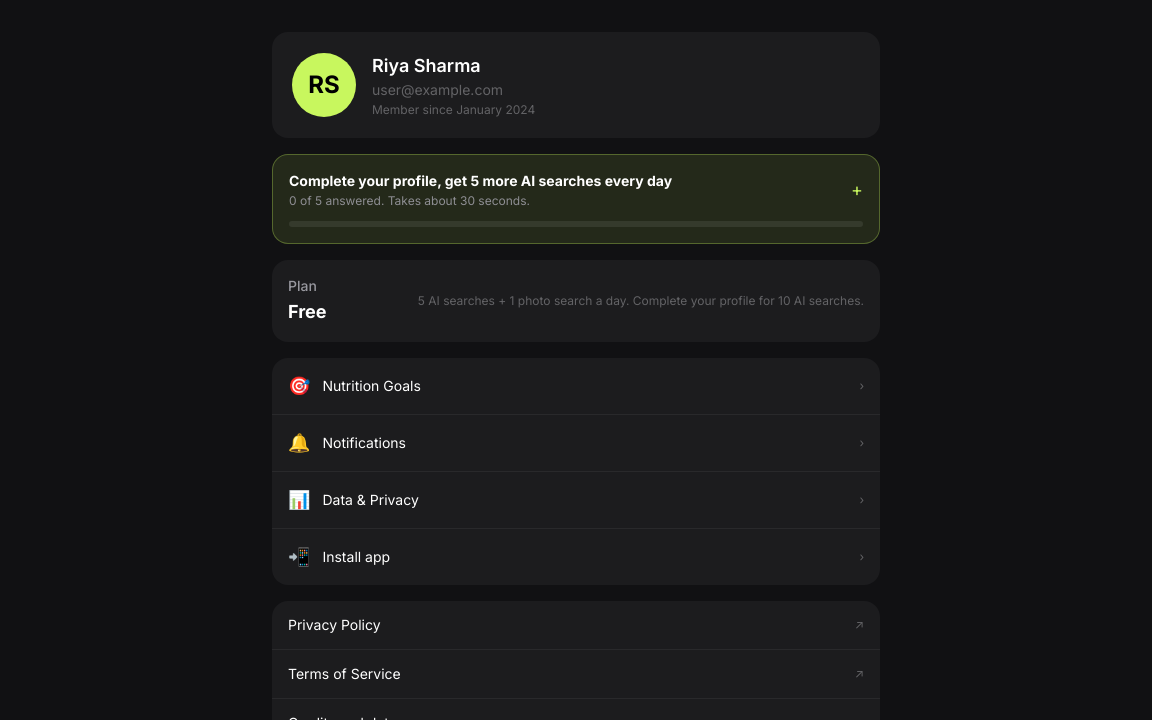
it: NutritionGoalsModal › shows error message when Supabase update fails
Expected: the text "Riya Sharma" is shown, [372,55,481,76]
Click the text "Nutrition Goals". click: (372, 386)
box: [322,377,421,394]
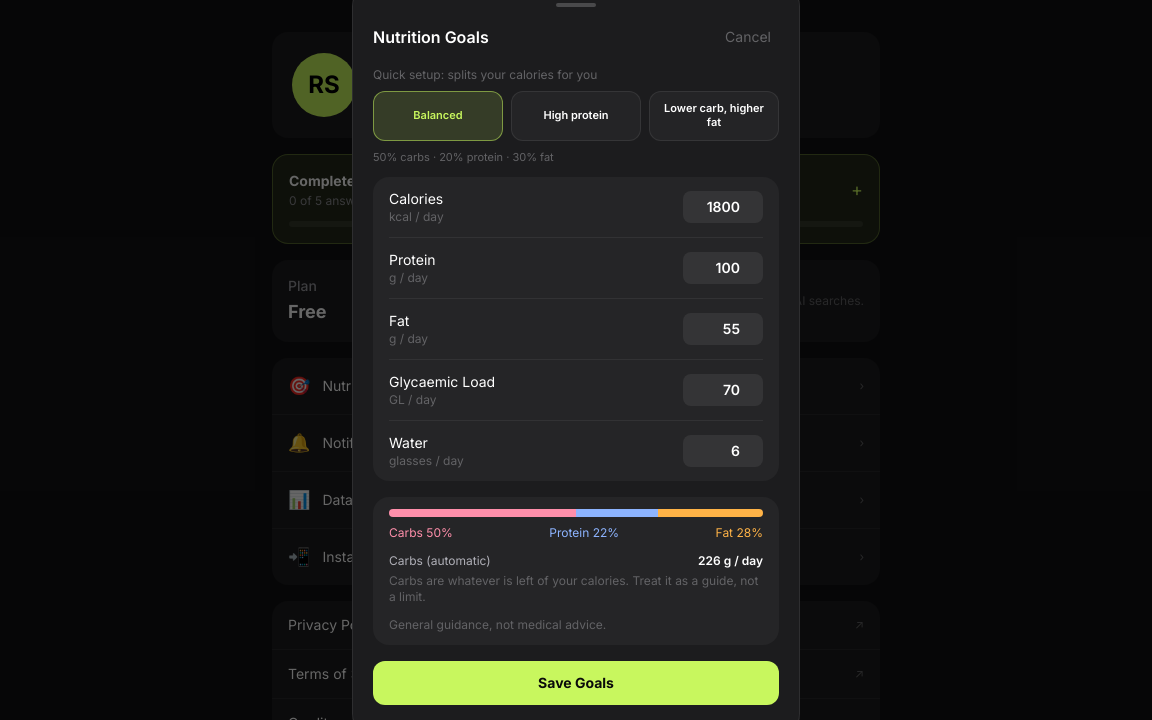
Result: the button "Save Goals" is shown
Click the button "Save Goals". click: (576, 683)
box: [373,661,779,705]
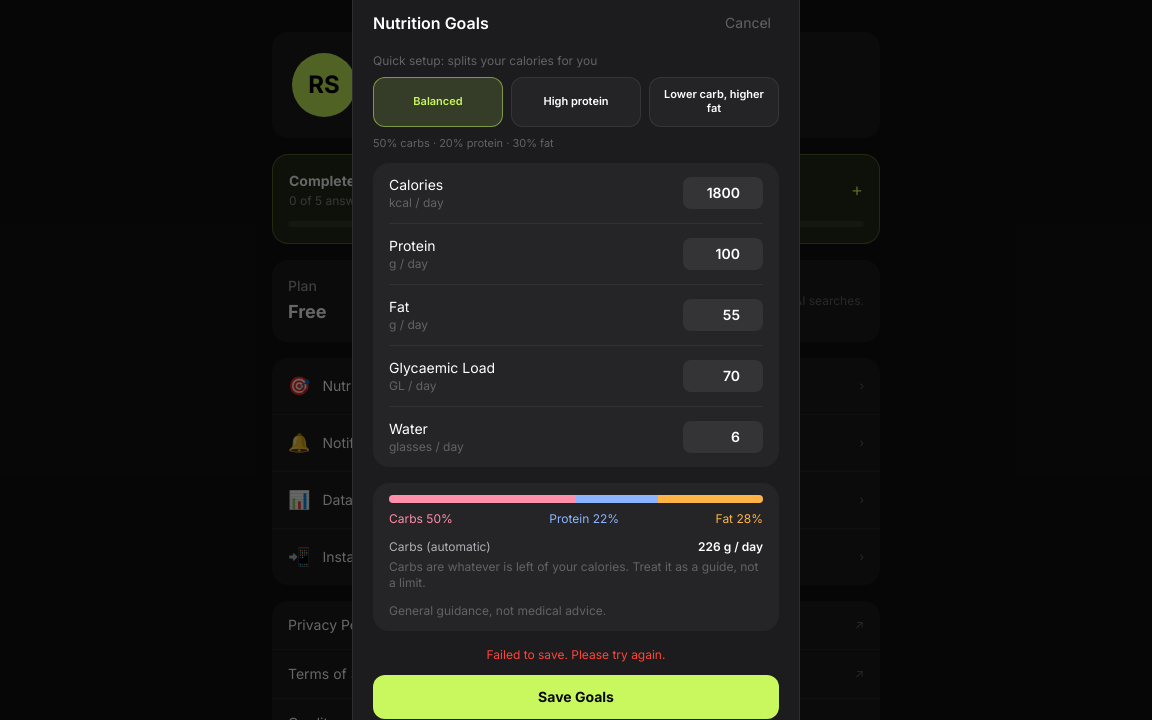
Result: the text "Failed to save. Please try again." is shown at [487,647,665,662]
